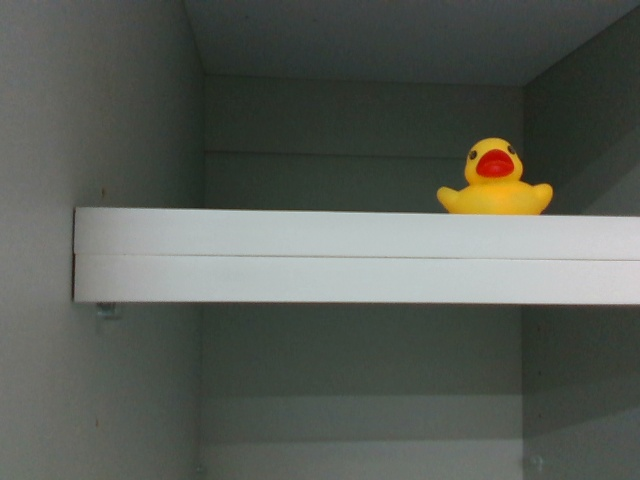duck: (435, 136, 556, 219)
